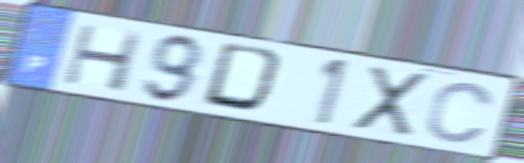1: (314, 56, 353, 131)
9: (141, 32, 210, 106)
C: (423, 80, 499, 146)
D: (198, 39, 292, 117)
H: (58, 21, 147, 95)
X: (350, 64, 432, 139)
